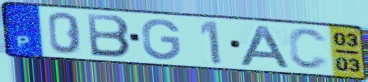0: (46, 10, 82, 55)
1: (199, 19, 224, 67)
A: (237, 24, 294, 71)
B: (85, 12, 134, 60)
C: (287, 27, 331, 72)
G: (140, 17, 182, 62)
